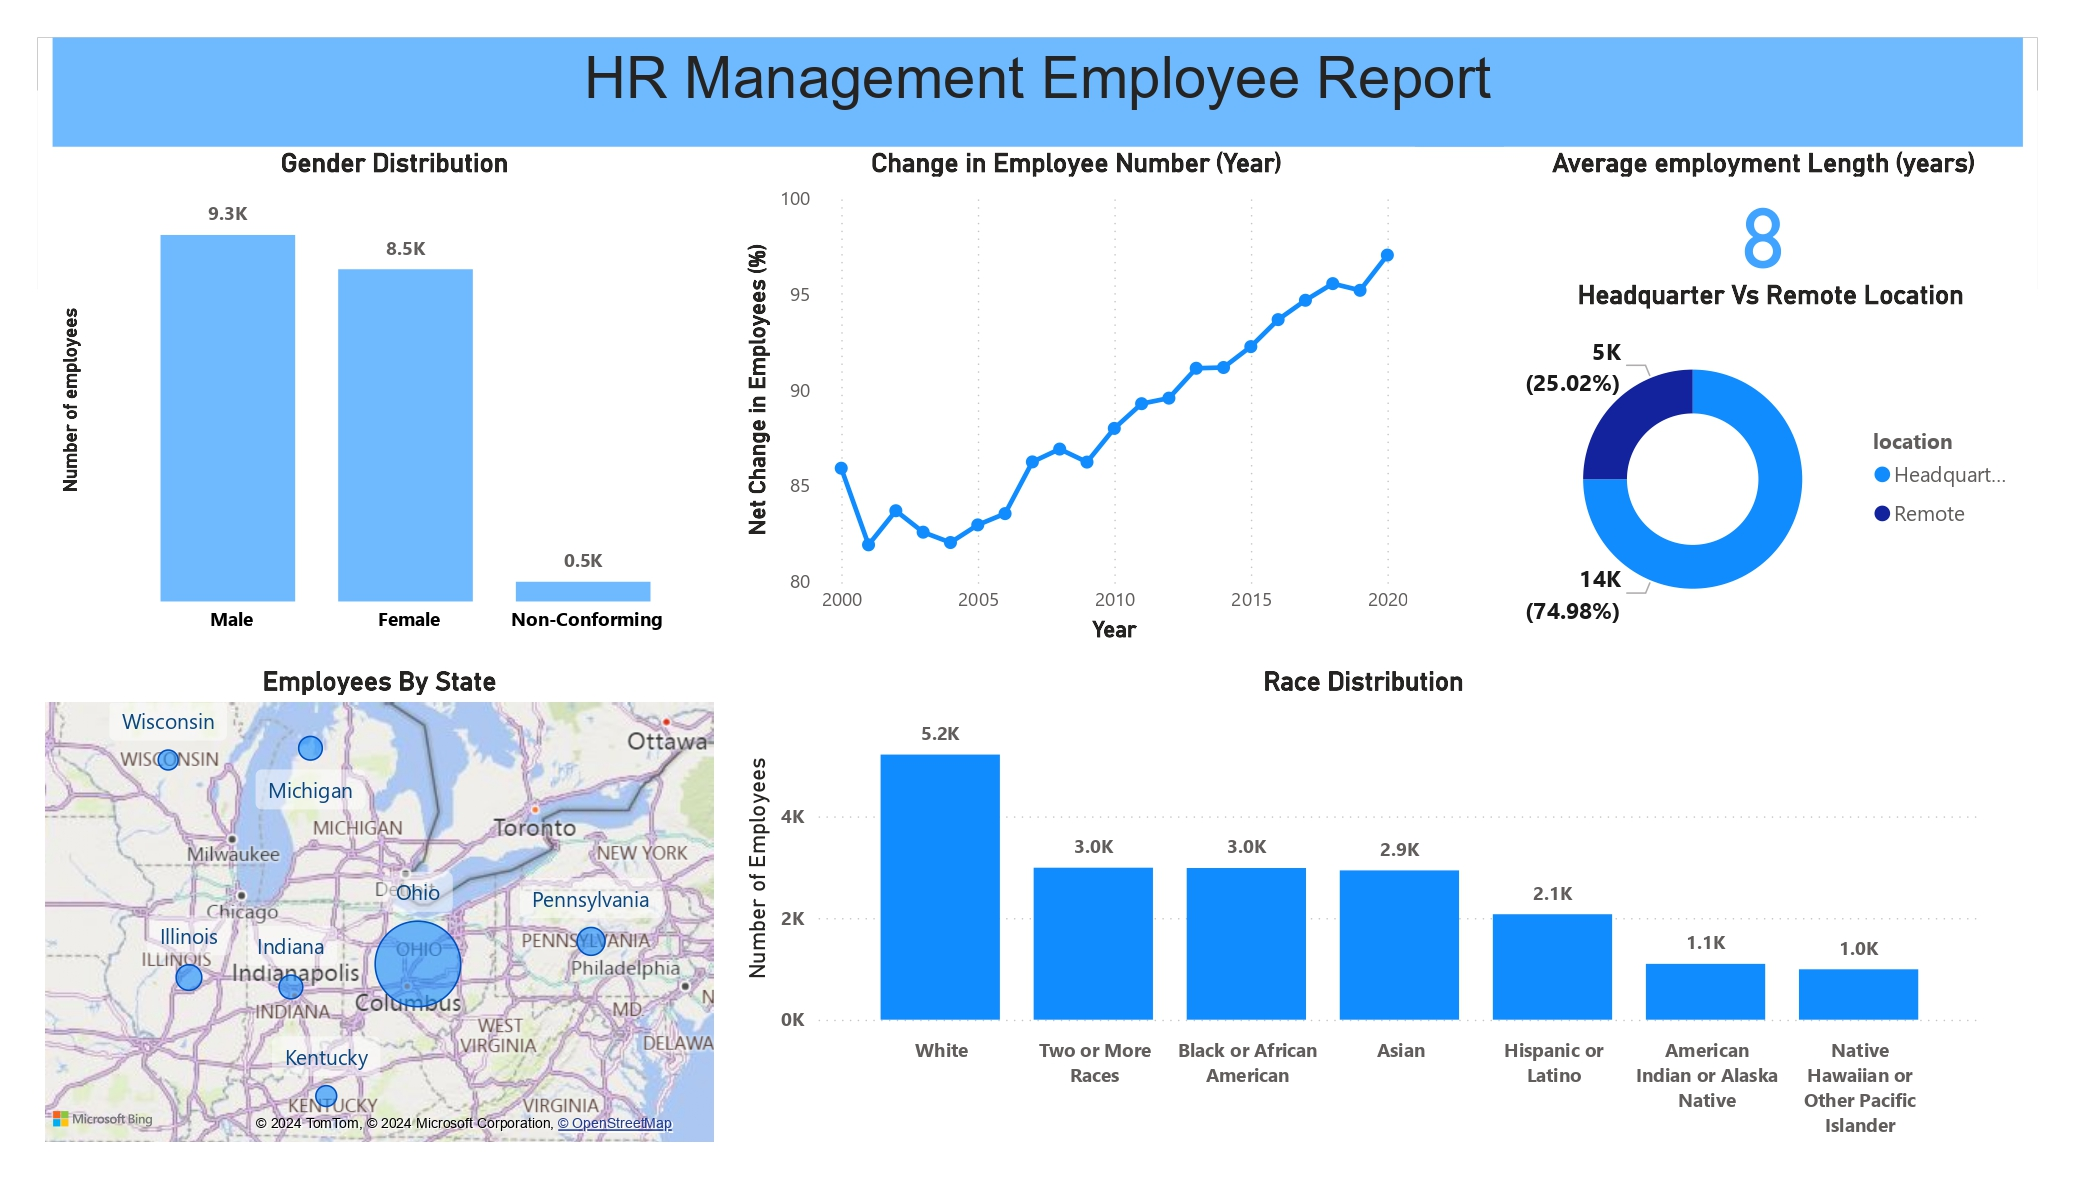

The dashboard page shown, as its layout file describes it:
{"tool":"powerbi","page":{"name":"Page 1","canvas":[1280,720],"ordinal":0},"visuals":[{"type":"textbox","box":[9.7,0,1260.7,70],"z":0},{"type":"card","title":"Average employment Length (years)","fields":{"Values":["Sum(avg_length_employment.avg_length_employment_in_years)"]},"box":[938.6,70,331.8,84.5],"z":1000},{"type":"columnChart","title":"Gender Distribution","fields":{"Category":["gender.gender"],"Y":["Sum(gender.count)"]},"box":[9.7,70,437.9,331.8],"z":2000},{"type":"lineChart","title":"Change in Employee Number (Year)","fields":{"Category":["employee_count_hiredate and termdate.year"],"Y":["Sum(employee_count_hiredate and termdate.net_change_percent)"]},"box":[447.6,70,434.3,322.1],"z":3000},{"type":"donutChart","title":"Headquarter Vs Remote Location","fields":{"Y":["Sum(location.count)"],"Category":["location.location"]},"box":[938.6,154.4,341.4,237.7],"z":4000},{"type":"map","title":"Employees By State","fields":{"Size":["Sum(state.count)"],"Category":["state.location_state"]},"box":[0,401.7,437.9,310.1],"z":5000},{"type":"clusteredColumnChart","title":"Race Distribution","fields":{"Y":["Sum(race.count)"],"Category":["race.race"]},"box":[447.6,401.7,802.3,310.1],"z":6000}]}

Visuals, with their boxes on the page's 1280x720 design canvas (x1, y1, x2, y2). These are canvas units, not pixel positions in the 2075x1200 screenshot, which may show the page scaled, cropped or inside an application window:
textbox: [10, 0, 1270, 70]
"Average employment Length (years)" card: [939, 70, 1270, 154]
"Gender Distribution" columnChart: [10, 70, 448, 402]
"Change in Employee Number (Year)" lineChart: [448, 70, 882, 392]
"Headquarter Vs Remote Location" donutChart: [939, 154, 1280, 392]
"Employees By State" map: [0, 402, 438, 712]
"Race Distribution" clusteredColumnChart: [448, 402, 1250, 712]
